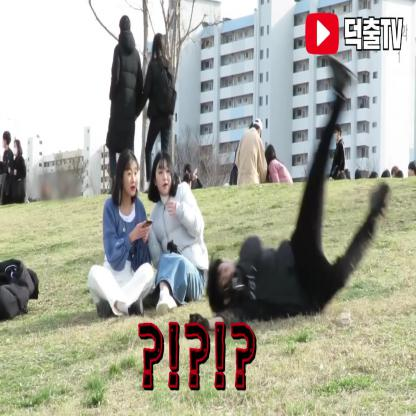Fall_Down: (187, 54, 391, 335)
